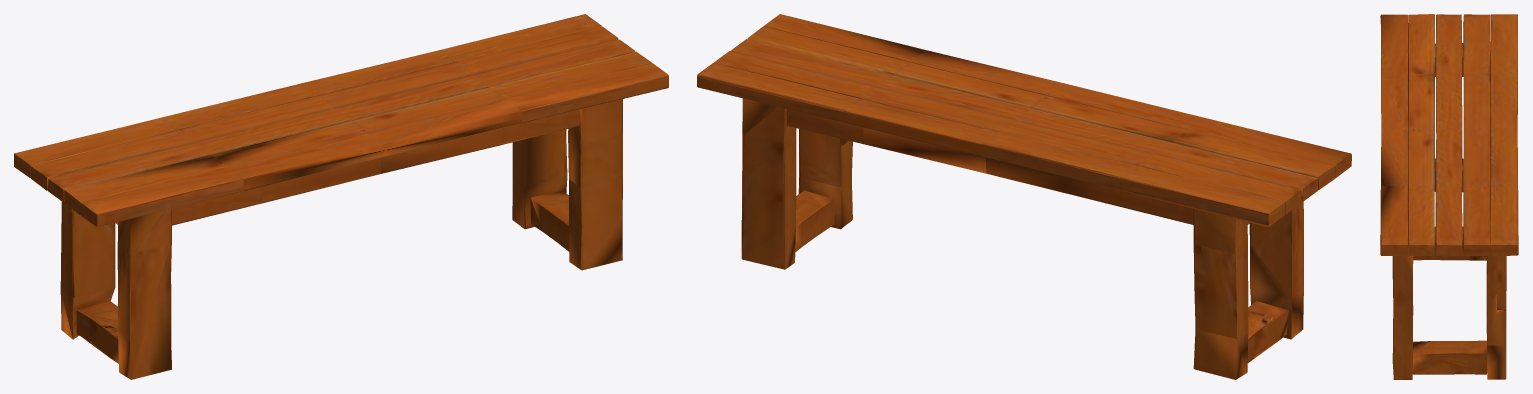
File: bench.lod1.glb
3 views of the same model, side by side, from view 1: azimuth 30°, elevation 25°; view 2: azimuth 150°, elevation 25°; view 3: azimuth 270°, elevation 25° (orthographic). The views are drawn at different scales.
Size of the model in its own units: 1.5 by 0.4588 by 0.38.
Materials: 1 (1 with a texture image).
